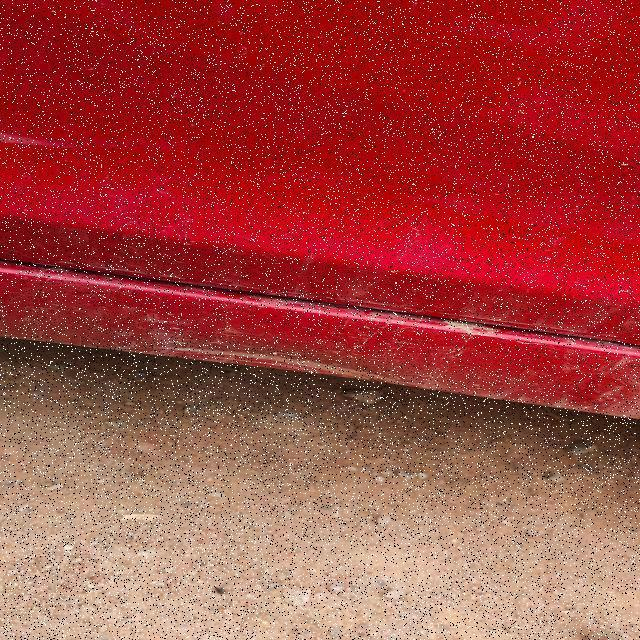RunningBoard-Dent: (5, 264, 639, 430)
